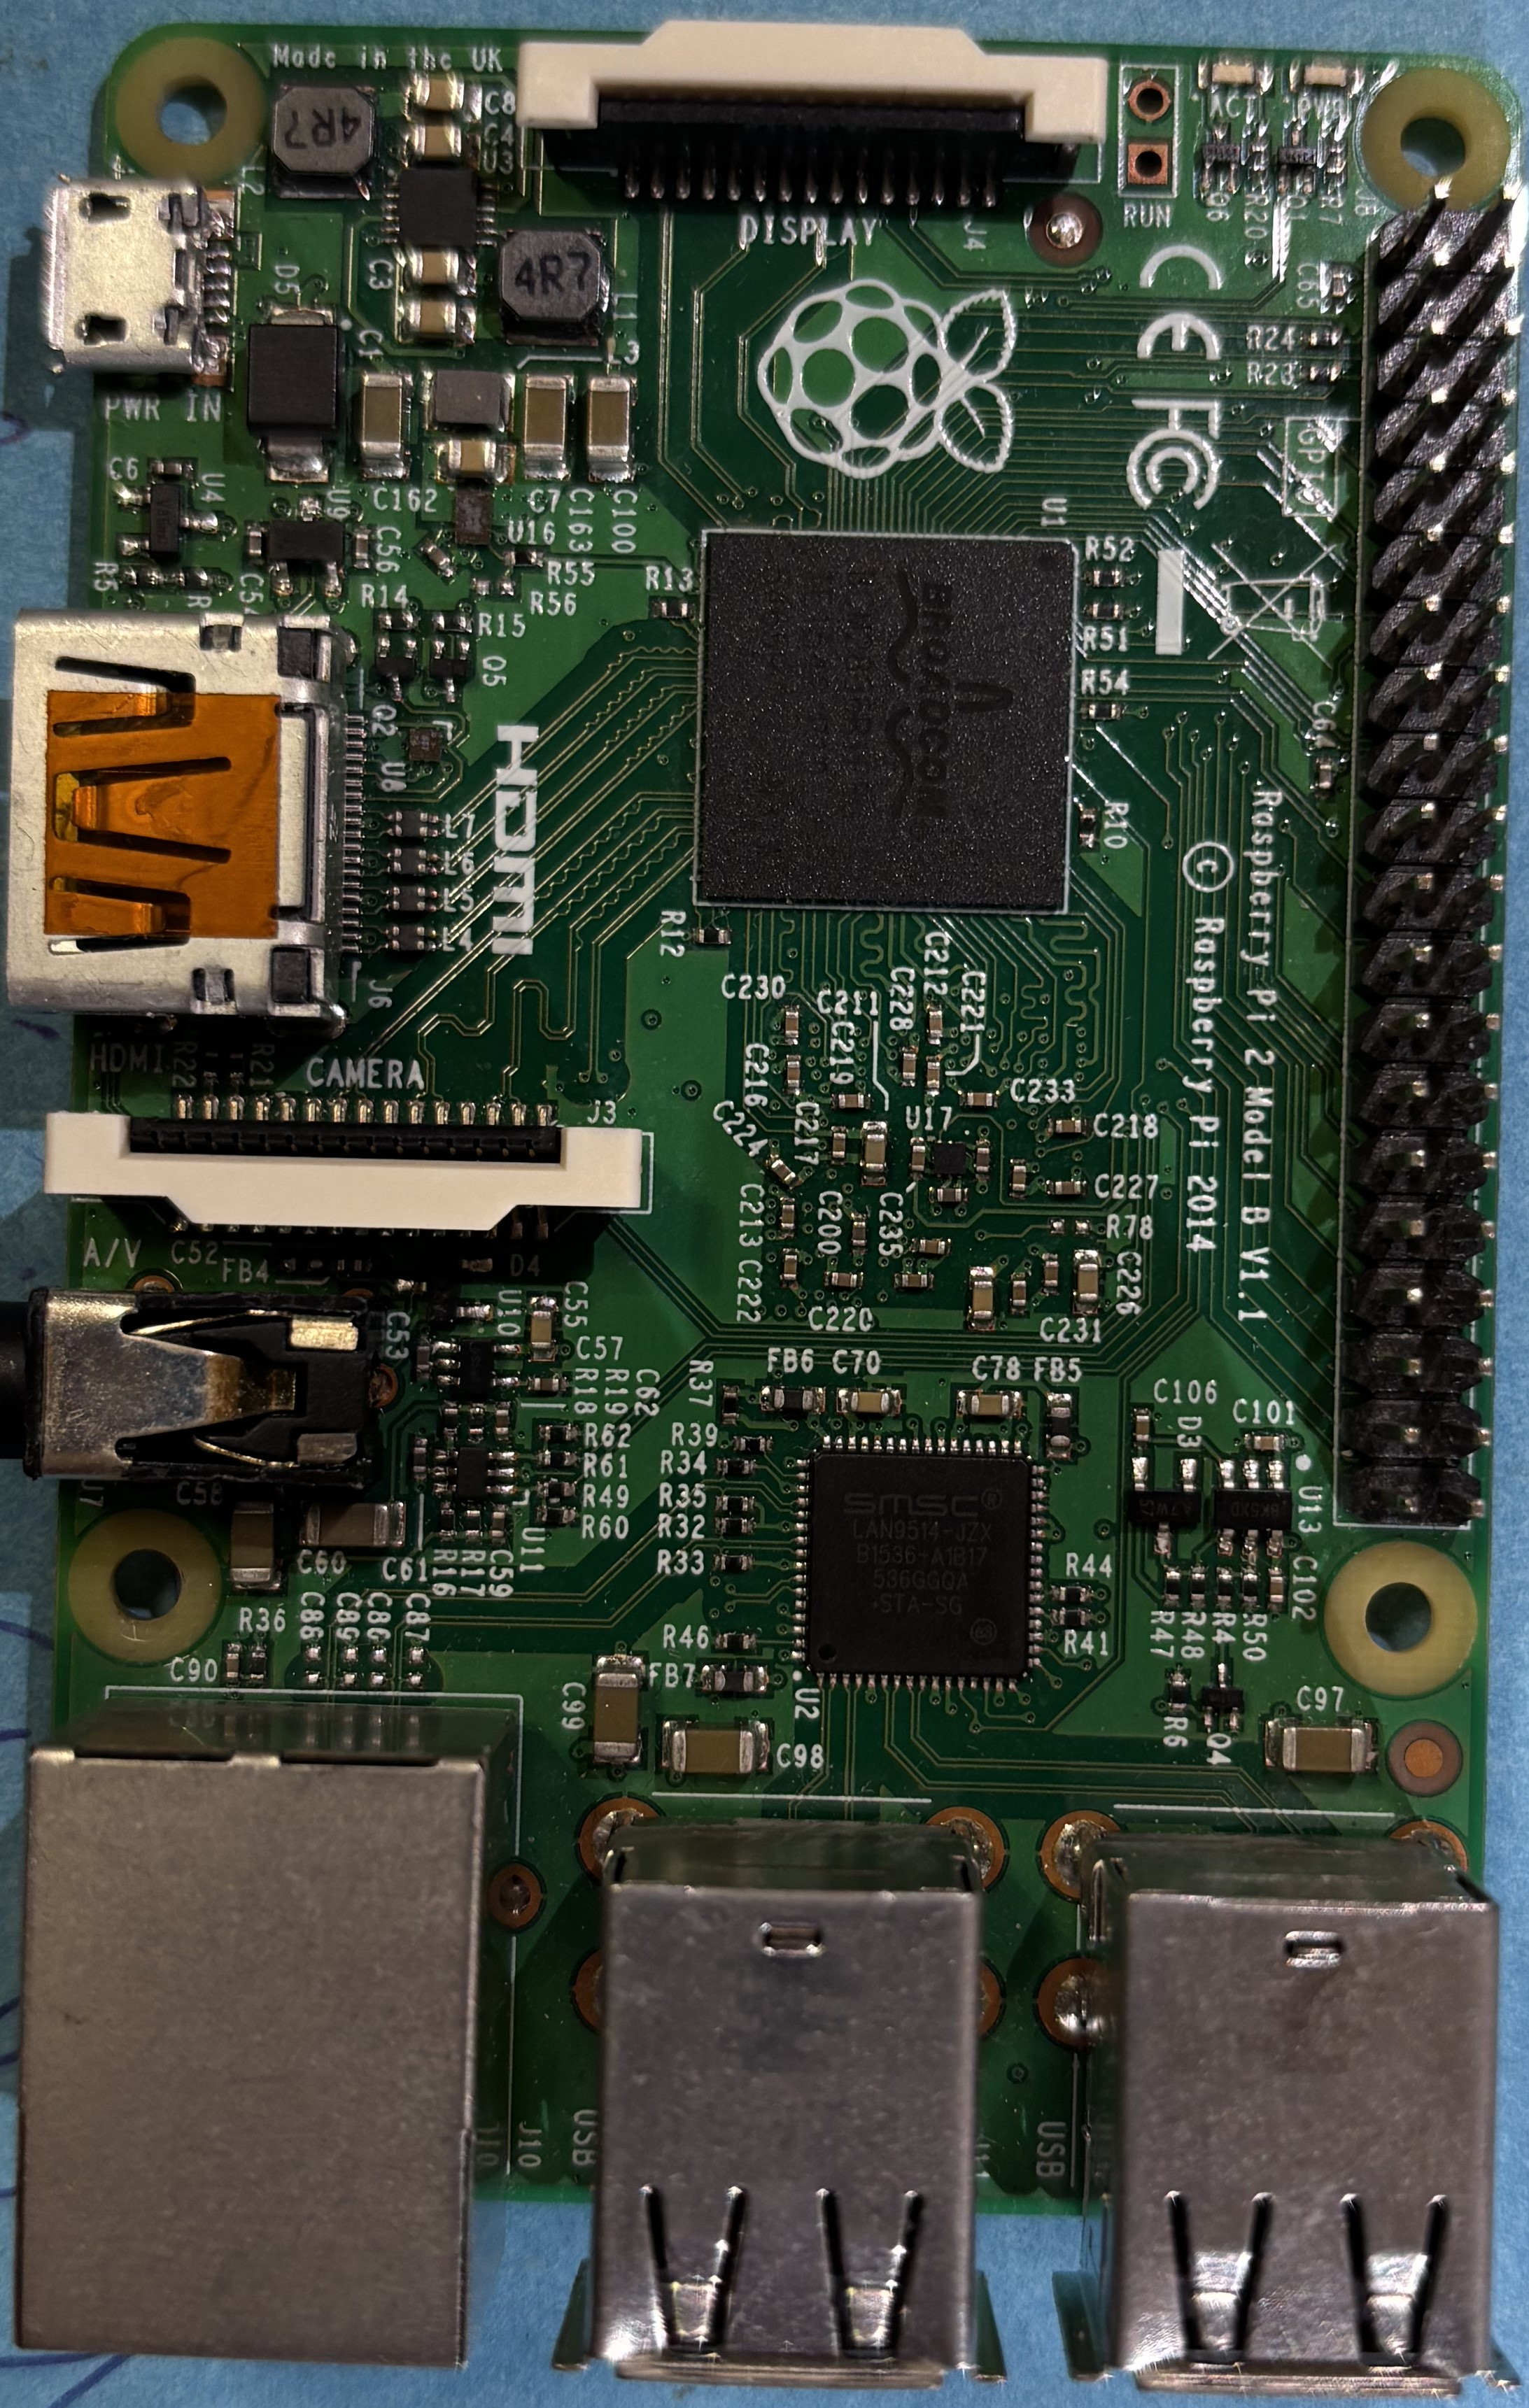Induktor: (502, 230, 604, 340), (274, 84, 376, 191), (423, 369, 514, 434), (386, 848, 439, 876), (383, 925, 437, 951), (386, 813, 439, 839), (386, 886, 439, 911)
